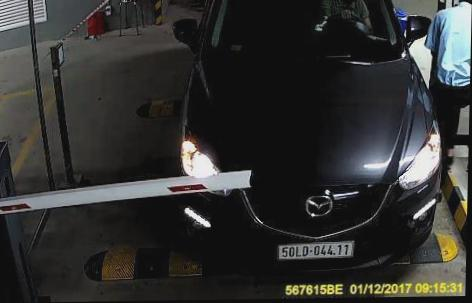License_Plate: (278, 239, 352, 261)
